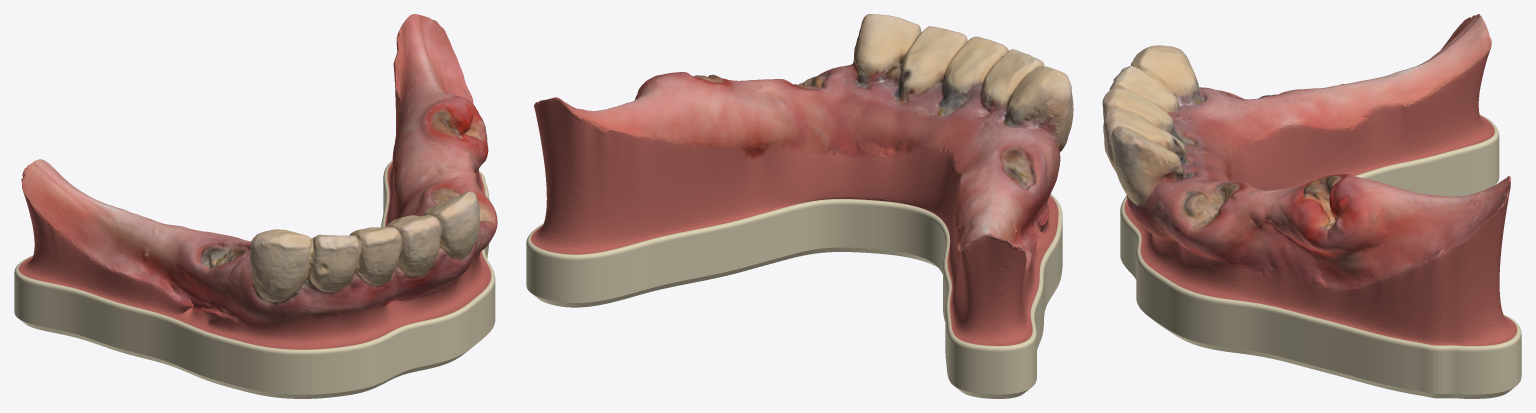
File: lower-7.glb
The picture shows the model from 3 angles, left to right: view 1: azimuth 30°, elevation 25°; view 2: azimuth 150°, elevation 25°; view 3: azimuth 270°, elevation 25°; orthographic projection. The views are drawn at different scales.
Visible parts, largest first — view 1: lower-7; view 2: lower-7; view 3: lower-7.
Boxes of the visible parts, bbox=[...] form: lower-7: bbox=[14, 14, 497, 398]; lower-7: bbox=[526, 14, 1073, 398]; lower-7: bbox=[1102, 14, 1521, 398].
Size of the model in its own units: 61.6 by 24.95 by 45.79.
